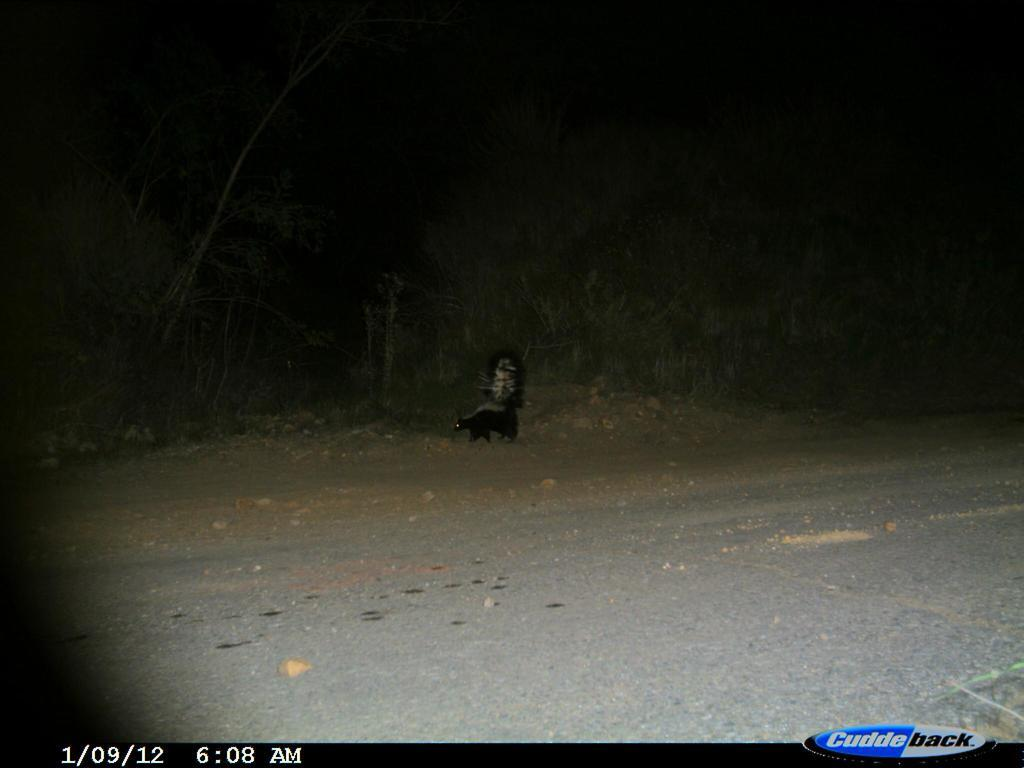skunk: (443, 345, 543, 459)
